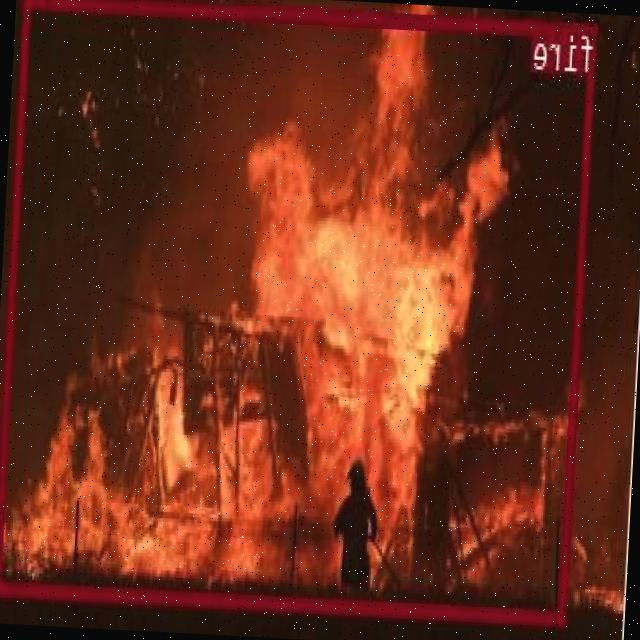fire: (0, 0, 598, 621)
